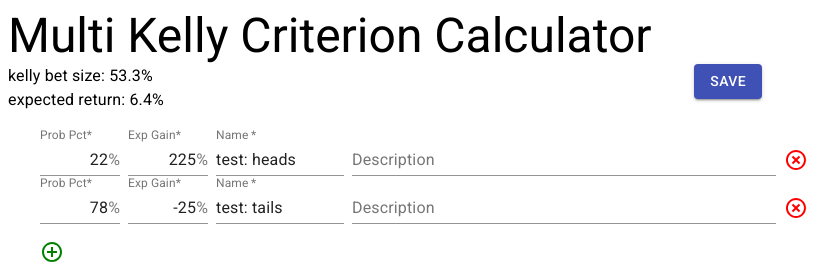
Test case: kelly editor › shows both name and percent errors
Clear the 1st field showing "test: heads" at (280, 160), box left=216, top=144, right=344, bottom=176
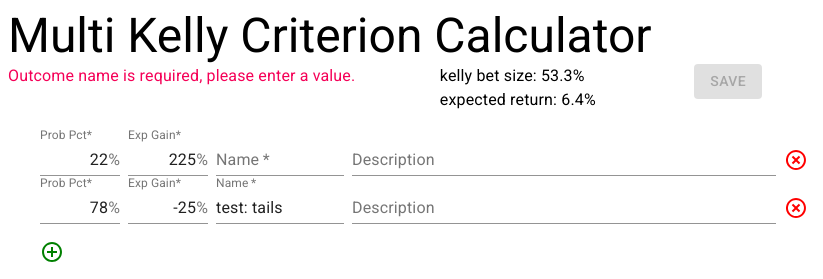
Replace the text in the 1st number field showing "22" with "21" at (74, 160), box left=40, top=144, right=108, bottom=176
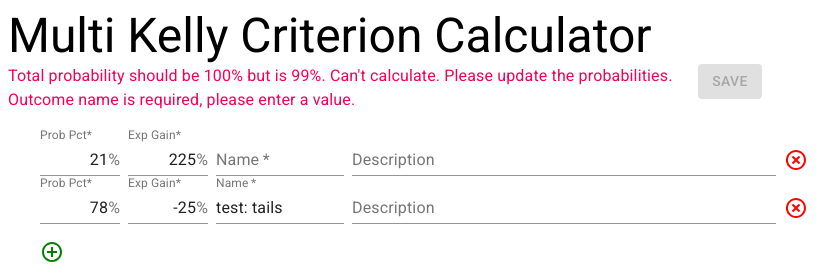
expect the button "Save" is disabled: met, box left=698, top=64, right=762, bottom=99
expect the text "Total probability should be 100% but is 99%. Can't calculate. Please update the probabilities. Outcome name is required," is shown: met, box left=8, top=66, right=672, bottom=109
